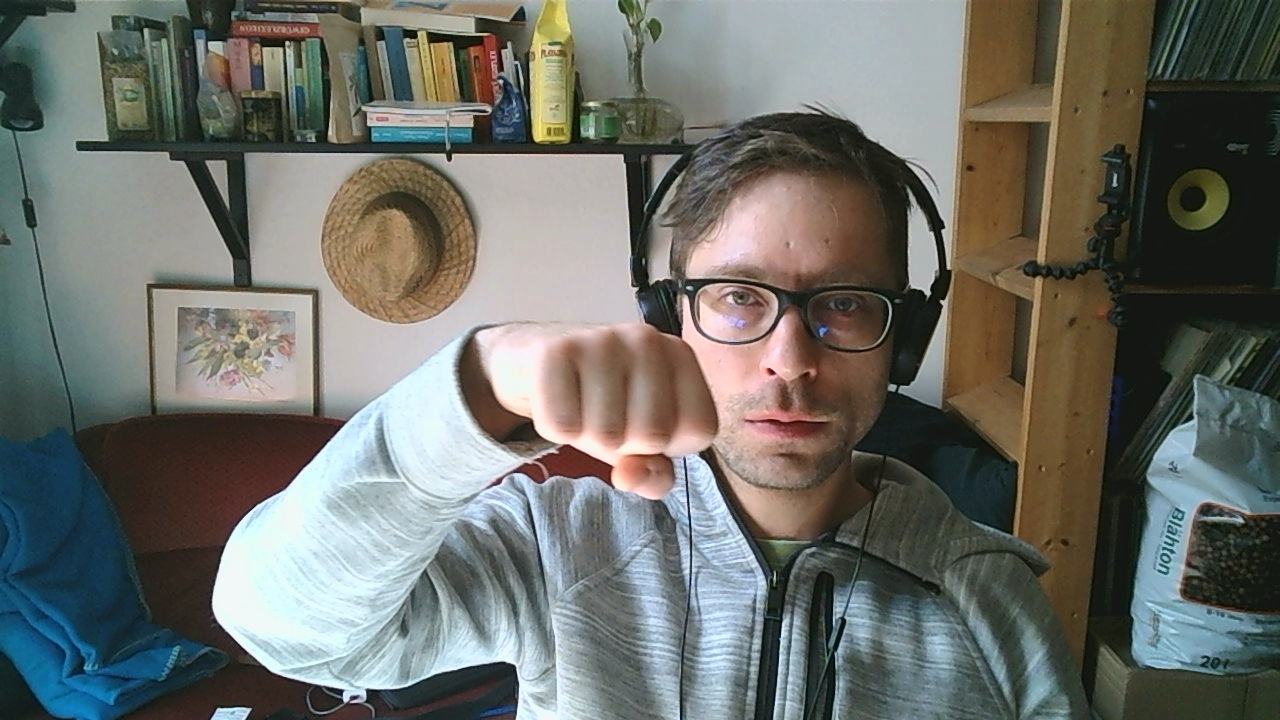yes: (489, 316, 722, 498)
